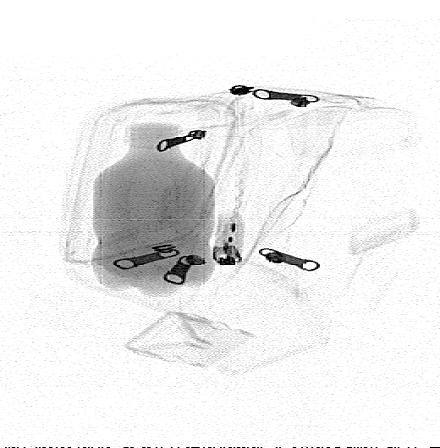Lighter: (211, 210, 246, 266)
